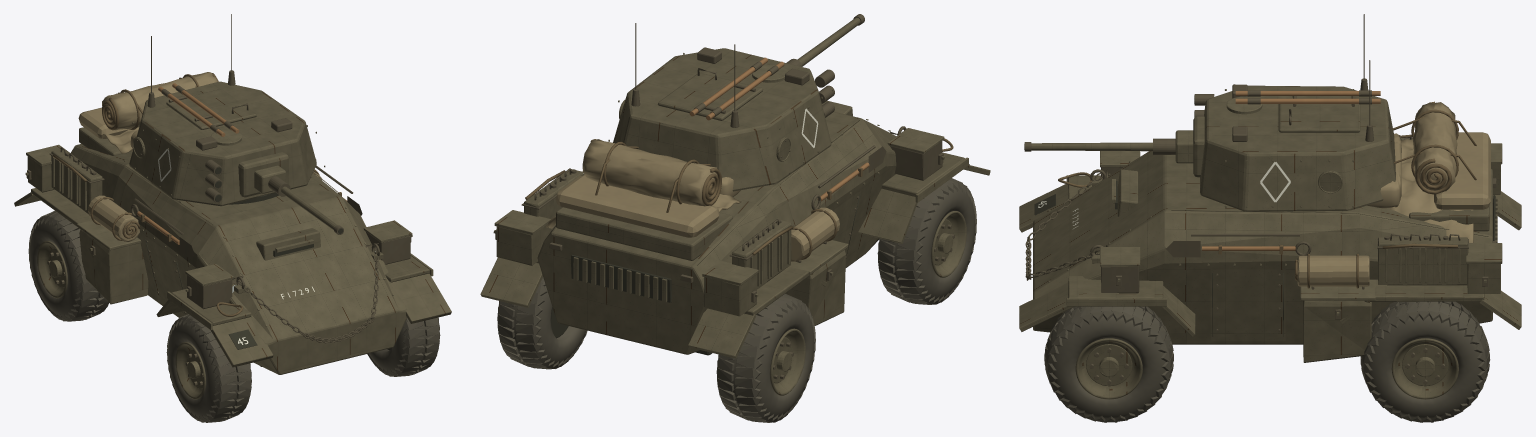
The model's file is reference-armored-car-low.glb.
3 views of the same model, side by side, from view 1: azimuth 30°, elevation 25°; view 2: azimuth 150°, elevation 25°; view 3: azimuth 270°, elevation 25° (orthographic). The views are drawn at different scales.
Parts seen in each view (by area): view 1: hull--armor, turret-pivot--armor, front-fenders--armor, wheel-left-front--rubber, wheel-left-rear--rubber, rear-stowage--canvas, side-boxes--armor, wheel-right-front--rubber, hull--armor-edge, front-fenders--armor-edge, front-fenders--steel, hatch--armor (+15 smaller); view 2: hull--armor, turret-pivot--armor, rear-stowage--canvas, wheel-left-rear--rubber, wheel-left-front--rubber, rear-fenders--armor, wheel-right-rear--rubber, front-fenders--armor, rear-boxes--armor, rear-stowage--armor, side-boxes--armor, hatch--armor (+17 smaller); view 3: hull--armor, turret-pivot--armor, rear-stowage--canvas, wheel-right-rear--rubber, wheel-right-front--rubber, hull--armor-edge, front-fenders--armor, side-boxes--armor, rear-stowage--armor, rear-fenders--armor, wheel-right-front--armor, wheel-right-rear--armor (+17 smaller).
Part boxes in pixels (<box>): hull--armor: <box>71,127,407,374</box>; turret-pivot--armor: <box>129,81,316,206</box>; front-fenders--armor: <box>156,256,451,367</box>; wheel-left-front--rubber: <box>166,314,251,422</box>; wheel-left-rear--rubber: <box>28,211,108,321</box>; rear-stowage--canvas: <box>78,72,322,241</box>; side-boxes--armor: <box>79,230,148,304</box>; wheel-right-front--rubber: <box>367,317,440,376</box>; hull--armor-edge: <box>75,146,339,317</box>; front-fenders--armor-edge: <box>167,220,433,329</box>; front-fenders--steel: <box>187,232,410,309</box>; hatch--armor: <box>166,89,256,129</box>; hull--armor: <box>537,100,896,354</box>; turret-pivot--armor: <box>613,48,831,191</box>; rear-stowage--canvas: <box>546,139,839,261</box>; wheel-left-rear--rubber: <box>716,293,815,422</box>; wheel-left-front--rubber: <box>877,178,976,304</box>; rear-fenders--armor: <box>480,257,826,358</box>; wheel-right-rear--rubber: <box>497,277,587,369</box>; front-fenders--armor: <box>858,152,990,243</box>; rear-boxes--armor: <box>496,225,756,316</box>; rear-stowage--armor: <box>524,169,791,289</box>; side-boxes--armor: <box>785,250,845,325</box>; hatch--armor: <box>658,73,763,120</box>; hull--armor: <box>1033,151,1497,344</box>; turret-pivot--armor: <box>1200,85,1395,211</box>; rear-stowage--canvas: <box>1297,102,1490,286</box>; wheel-right-rear--rubber: <box>1360,301,1490,422</box>; wheel-right-front--rubber: <box>1044,306,1173,422</box>; hull--armor-edge: <box>1112,179,1488,341</box>; front-fenders--armor: <box>1019,176,1195,336</box>; side-boxes--armor: <box>1303,300,1371,362</box>; rear-stowage--armor: <box>1378,138,1468,285</box>; rear-fenders--armor: <box>1340,191,1521,329</box>; wheel-right-front--armor: <box>1075,338,1142,399</box>; wheel-right-rear--armor: <box>1391,338,1458,399</box>.
Size of the model in its own units: 2.76 by 3.32 by 4.61.
Materials: 10 (9 with a texture image).
